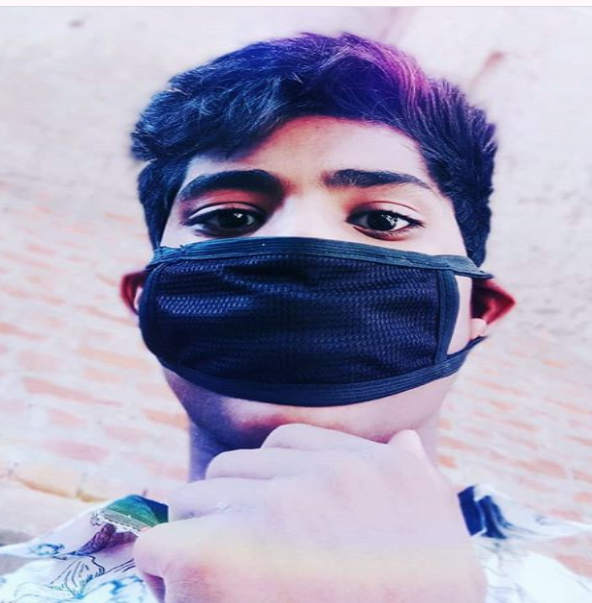mask_weared_incorrect: (117, 34, 510, 457)
